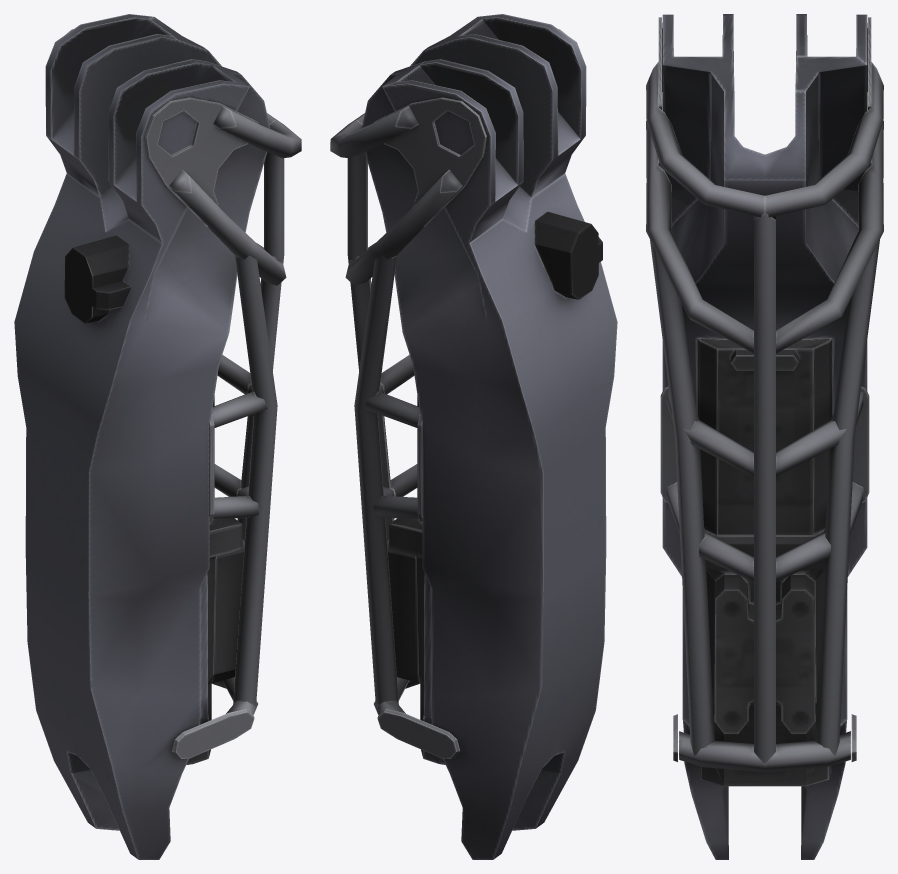
Rendered from r_lleg.dae.
The picture shows the model from 3 angles, left to right: view 1: azimuth 30°, elevation 25°; view 2: azimuth 150°, elevation 25°; view 3: azimuth 270°, elevation 25°; orthographic projection. The views are drawn at different scales.
Visible parts, largest first — view 1: drc_r_lleg; view 2: drc_r_lleg; view 3: drc_r_lleg.
Boxes of the visible parts, bbox=[...] form: drc_r_lleg: bbox=[14, 14, 301, 859]; drc_r_lleg: bbox=[330, 14, 617, 859]; drc_r_lleg: bbox=[646, 14, 883, 859].
Size of the model in its own units: 0.1369 by 0.1161 by 0.4526.
1 material, 1 textured.
